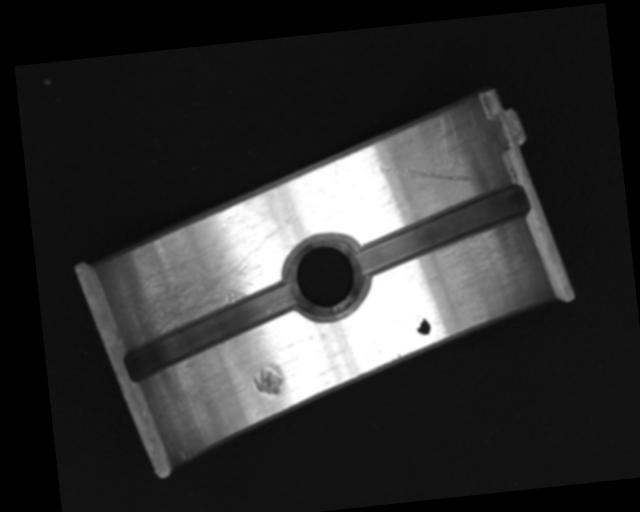blot: (414, 314, 432, 336)
bruise: (250, 360, 288, 398)
gap: (117, 280, 302, 381), (350, 182, 534, 278)
hole: (282, 233, 369, 320)
nick: (378, 156, 475, 192)
scratch: (108, 230, 286, 343)
